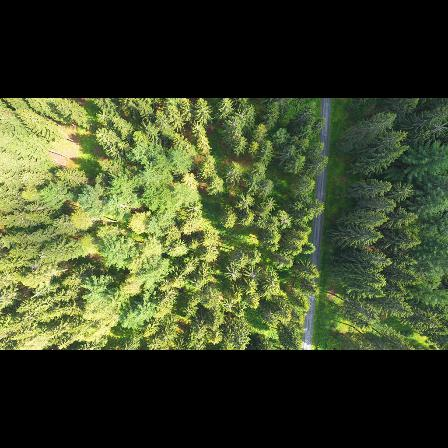Sick: (224, 116, 242, 132), (243, 266, 259, 283), (227, 263, 241, 282), (234, 106, 251, 121), (221, 297, 237, 311)
